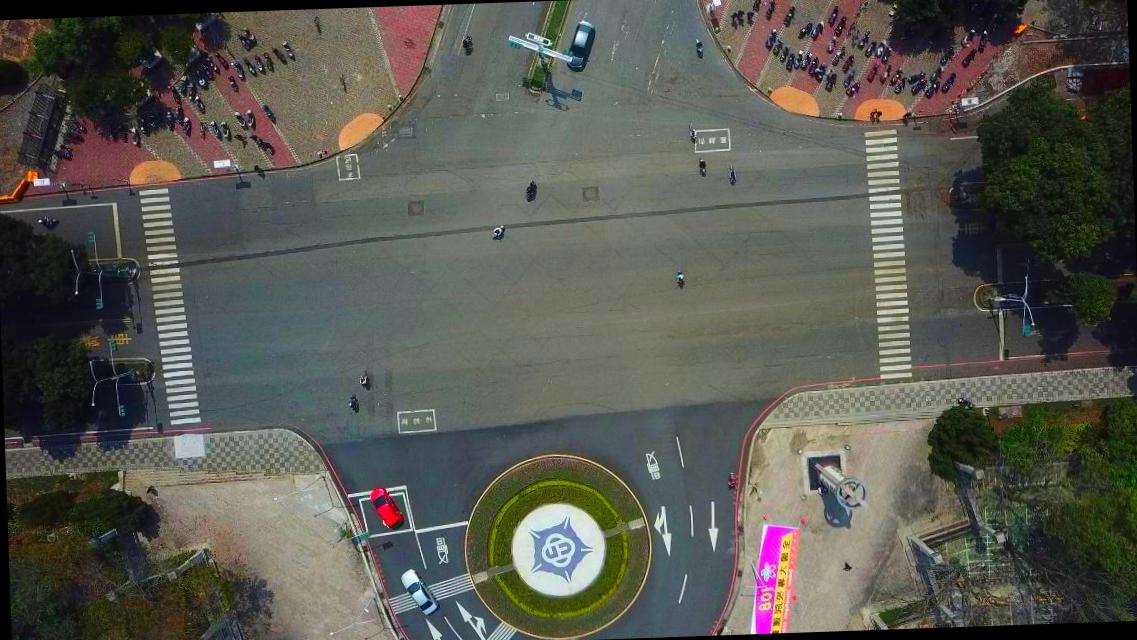vehicle: (398, 568, 439, 617), (562, 21, 596, 68), (368, 488, 401, 528)
